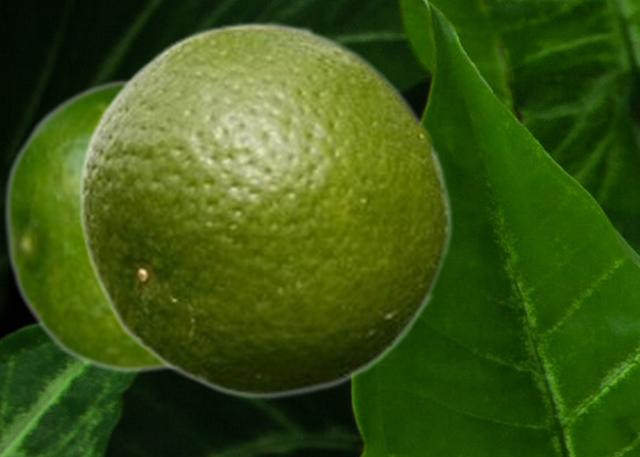calamansi: (78, 18, 452, 399), (2, 78, 167, 373)
